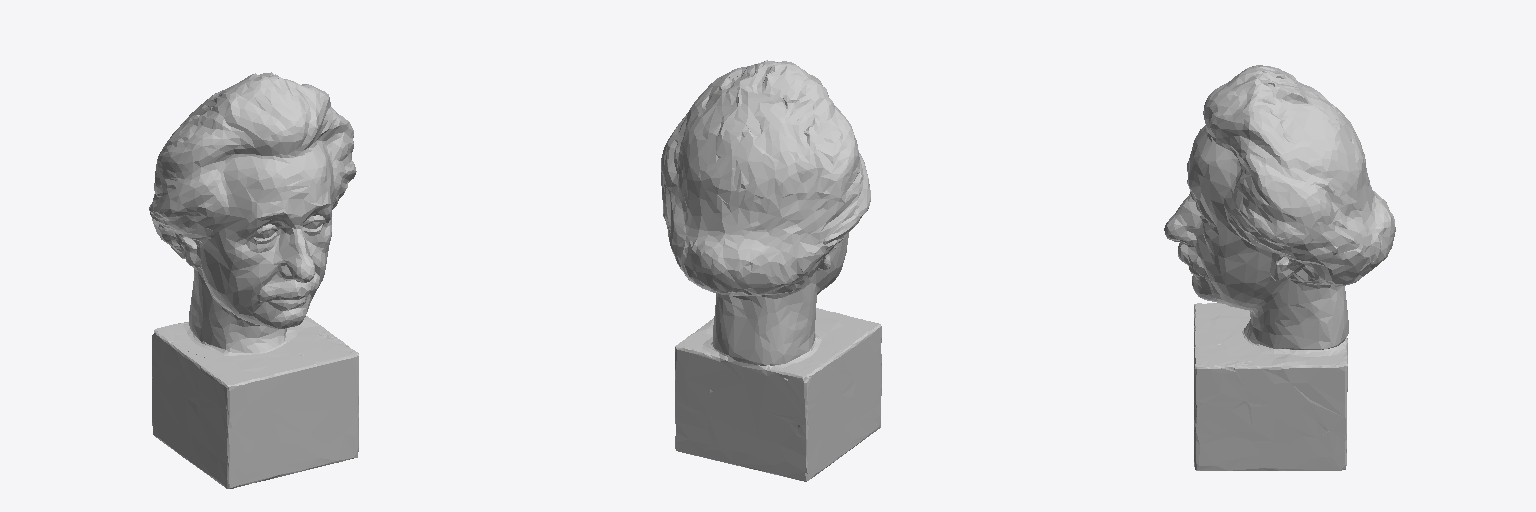
Rendered from stat1.obj.
The picture shows the model from 3 angles: view 1: azimuth 30°, elevation 25°; view 2: azimuth 150°, elevation 25°; view 3: azimuth 270°, elevation 25°; orthographic projection.
Visible parts, largest first — view 1: stat3; view 2: stat3; view 3: stat3.
Part boxes in pixels (x1,y1,x2,y2): stat3: (149, 72, 358, 488); stat3: (661, 60, 881, 481); stat3: (1164, 65, 1395, 470).
Bounding box in the file's own units: 24.86 × 45.41 × 25.61.